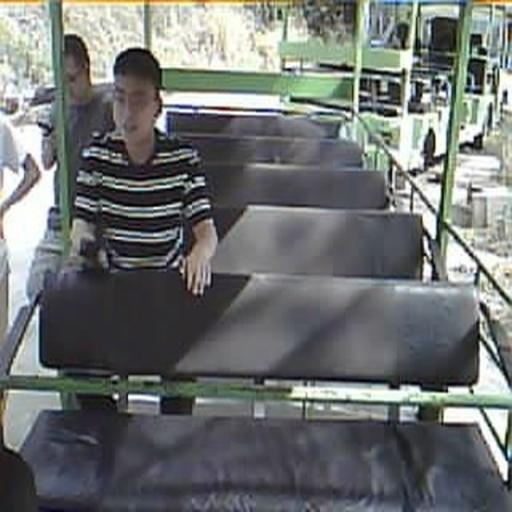persona: (56, 46, 219, 297)
